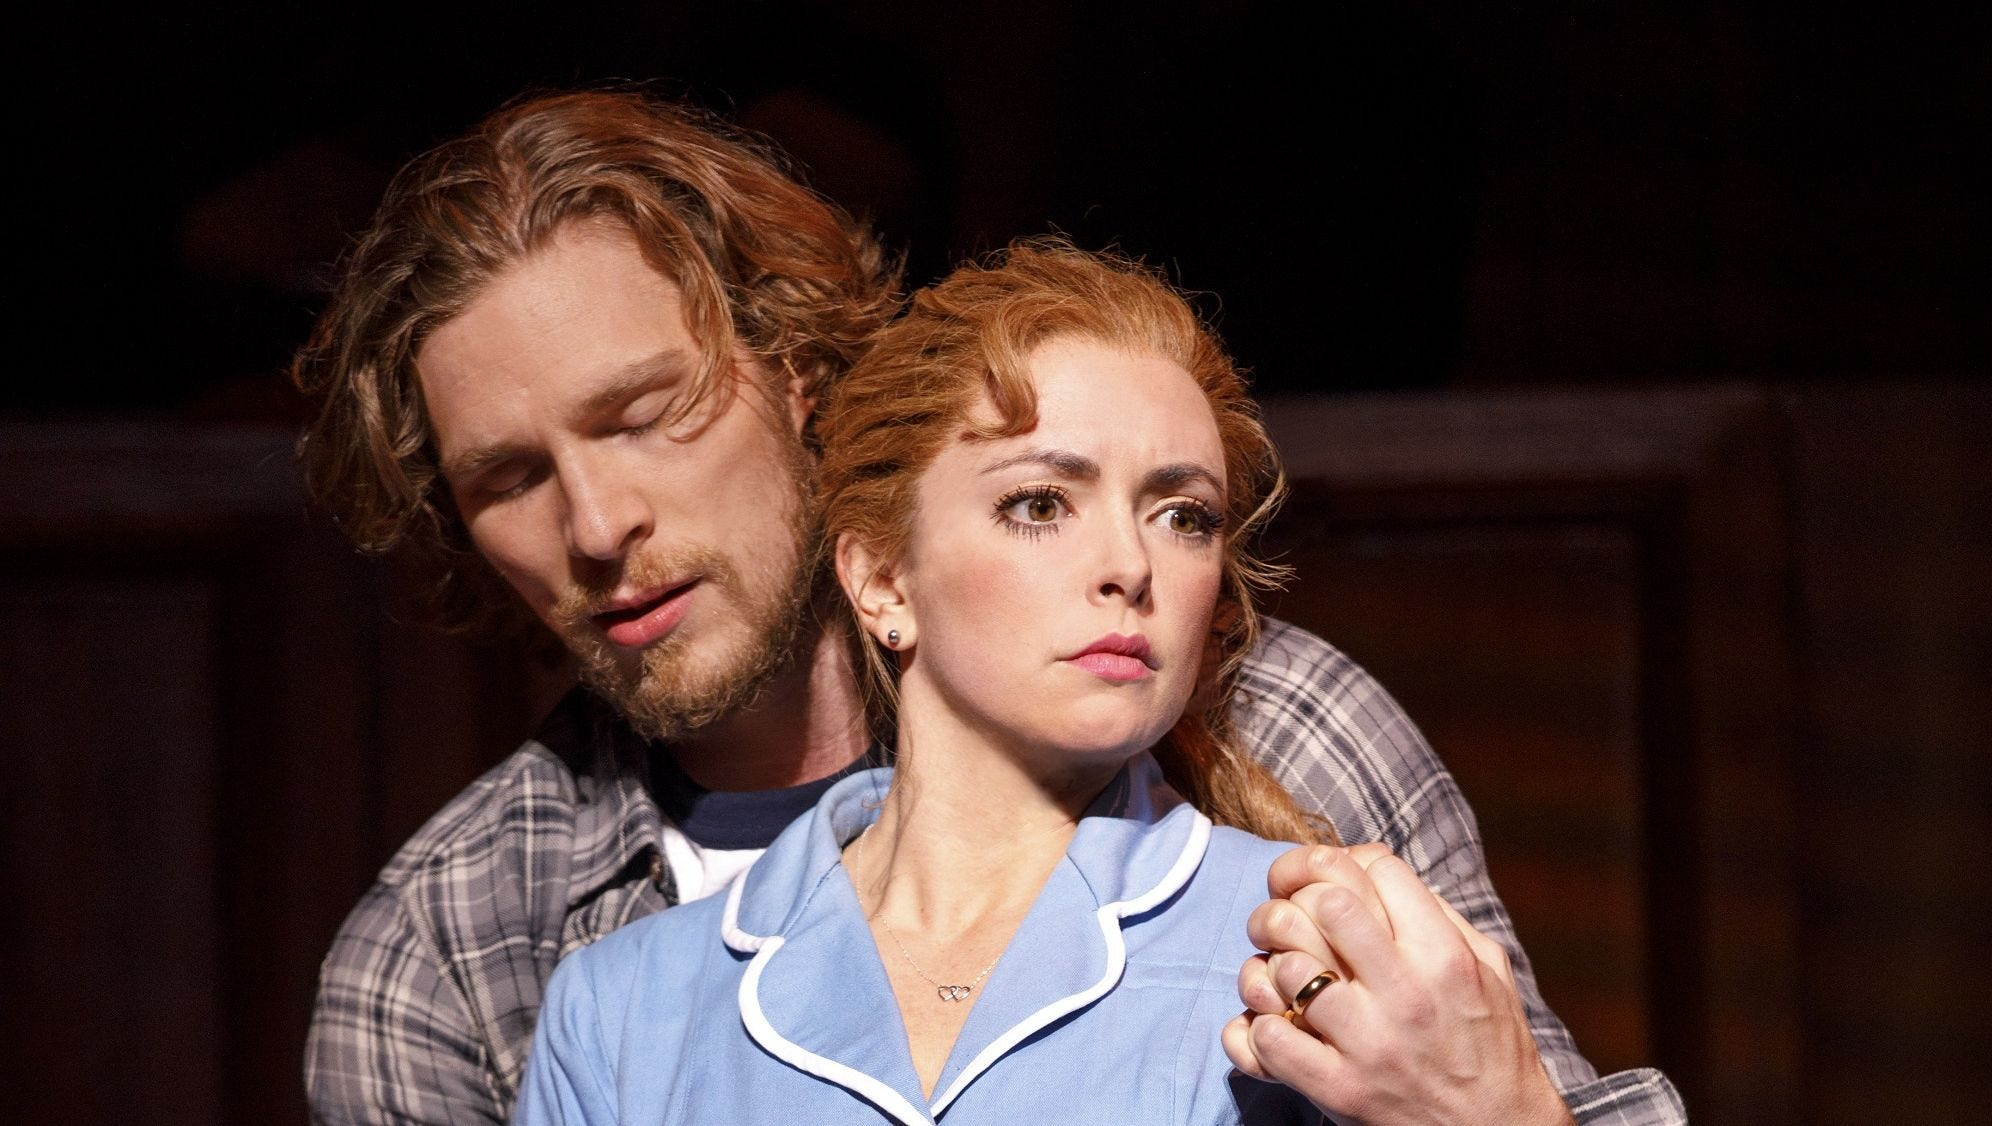bad: (419, 332, 803, 718), (954, 384, 1275, 705)
